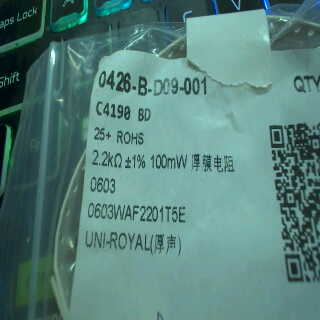2.2kR: (89, 147, 125, 171)
